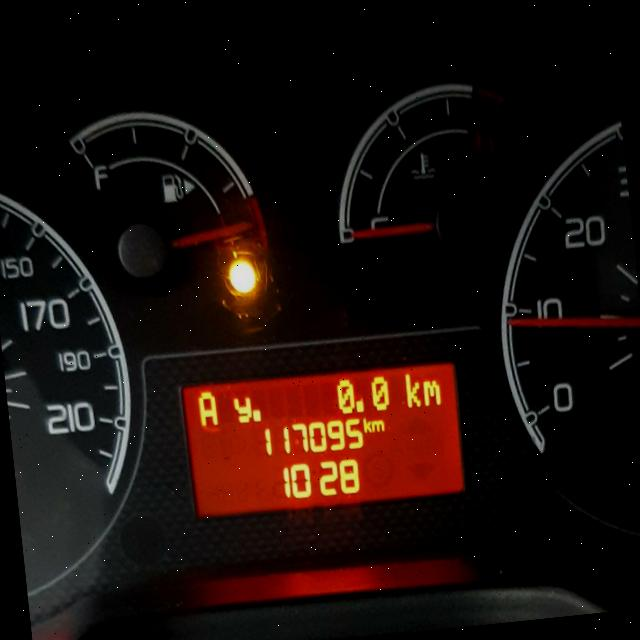odometer: (174, 348, 473, 524)
